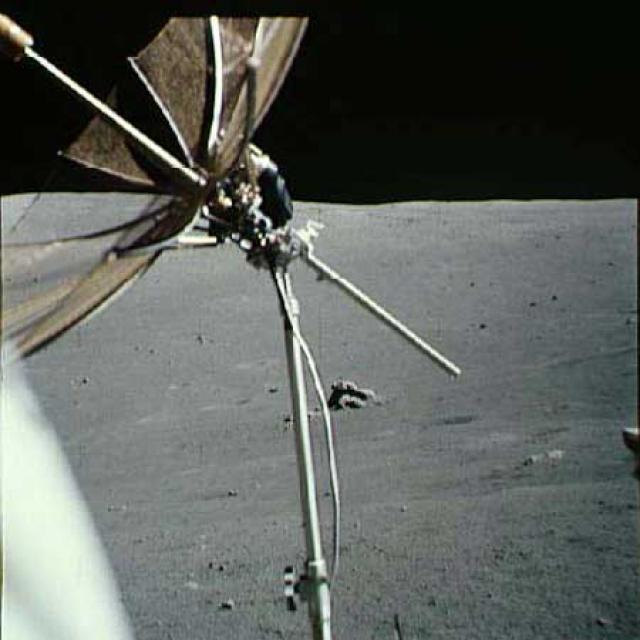artifact: (0, 8, 464, 404), (257, 402, 360, 638)
crater: (416, 408, 482, 436)
rock: (324, 365, 378, 414), (612, 420, 639, 456)
